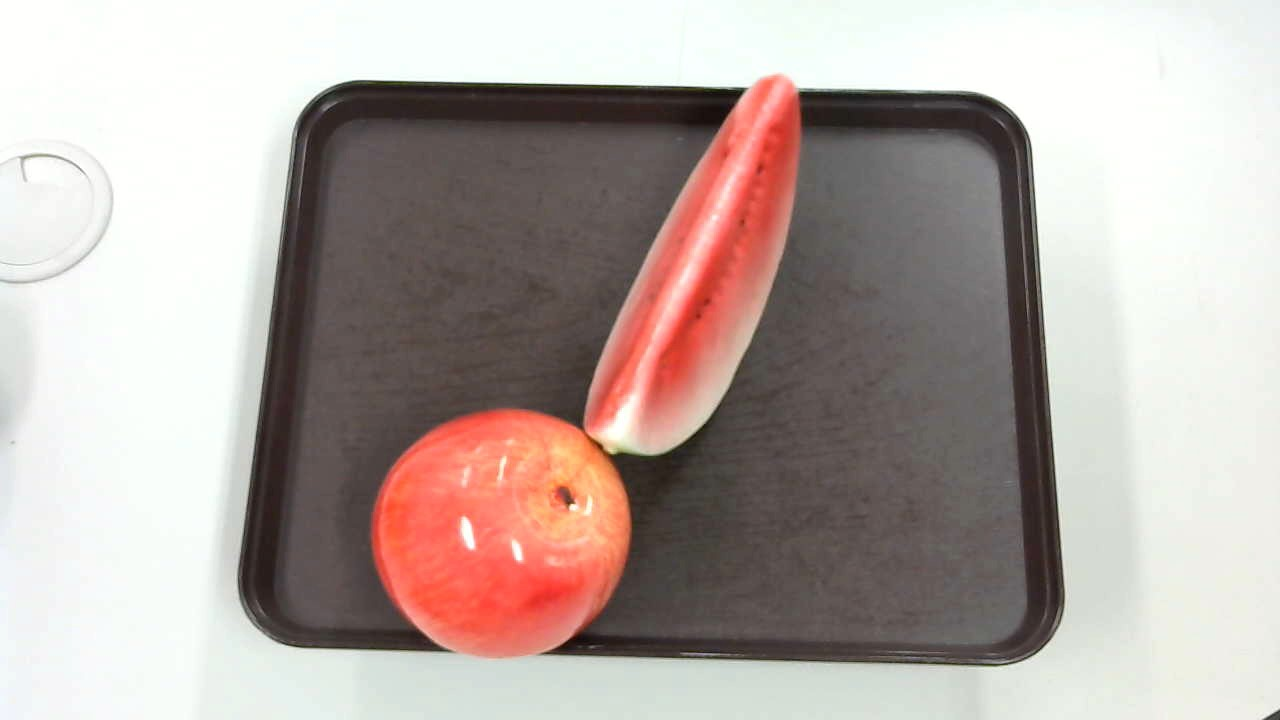red apple: (365, 405, 628, 661)
water melon: (580, 71, 811, 463)
